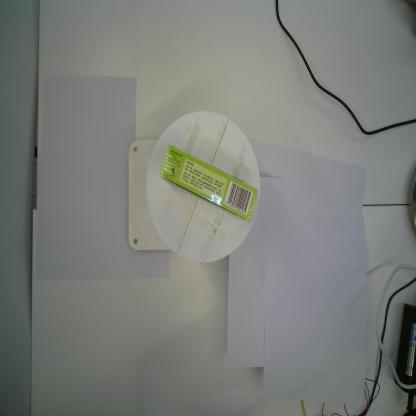Instant Drink: (159, 144, 260, 224)
